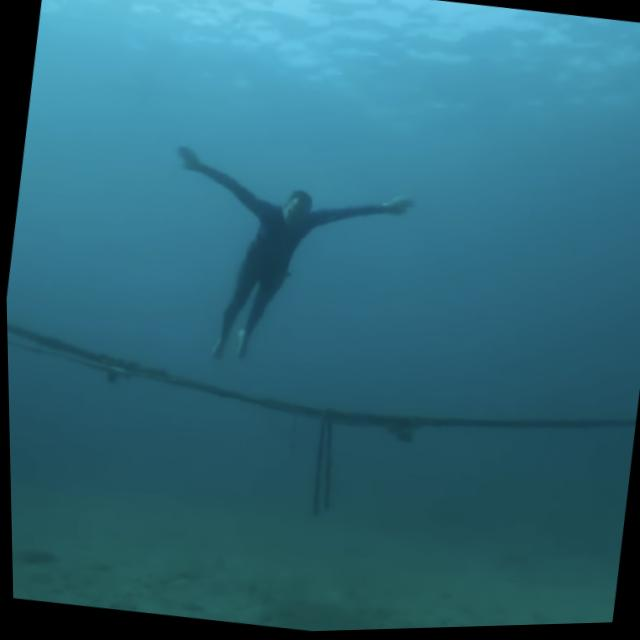human: (141, 131, 425, 407), (133, 126, 344, 332)
